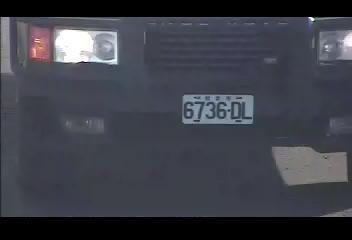plate: (181, 92, 255, 127)
